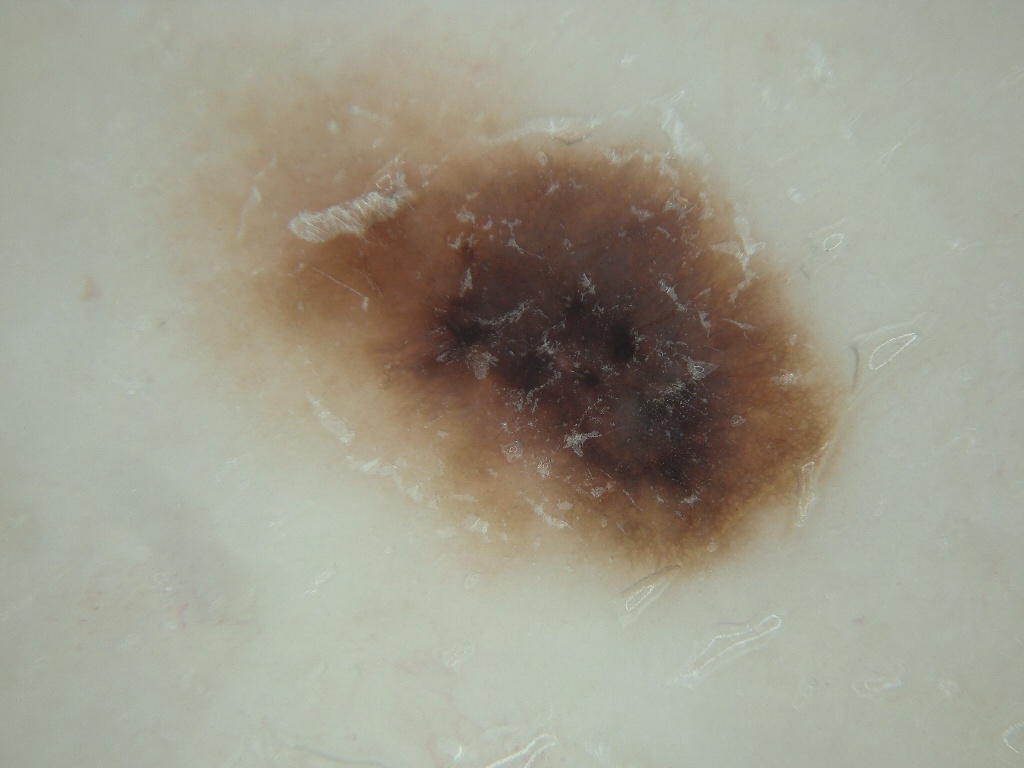Detected Lesion: (221, 100, 840, 597)
